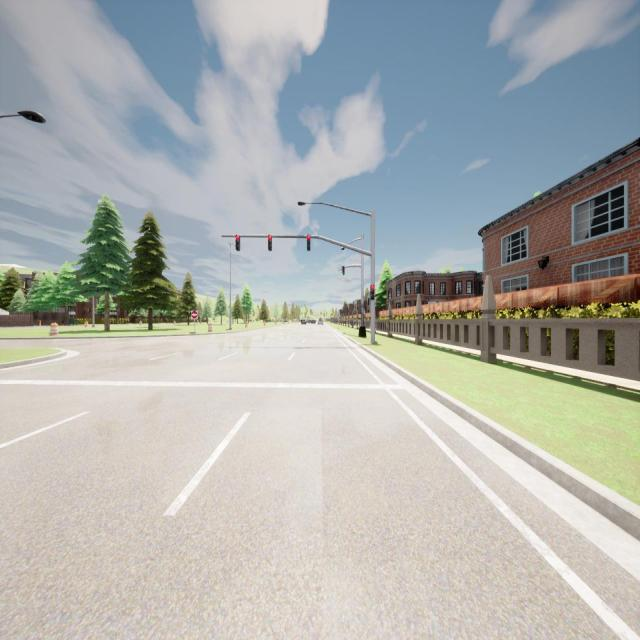Traffic_Signs: (191, 311, 198, 319)
Vehicle: (317, 318, 323, 325), (301, 318, 306, 324), (306, 319, 311, 324), (311, 320, 317, 324)
traffic_light: (235, 235, 240, 251), (370, 284, 374, 300), (307, 235, 311, 251), (268, 235, 272, 251), (341, 265, 345, 276)
